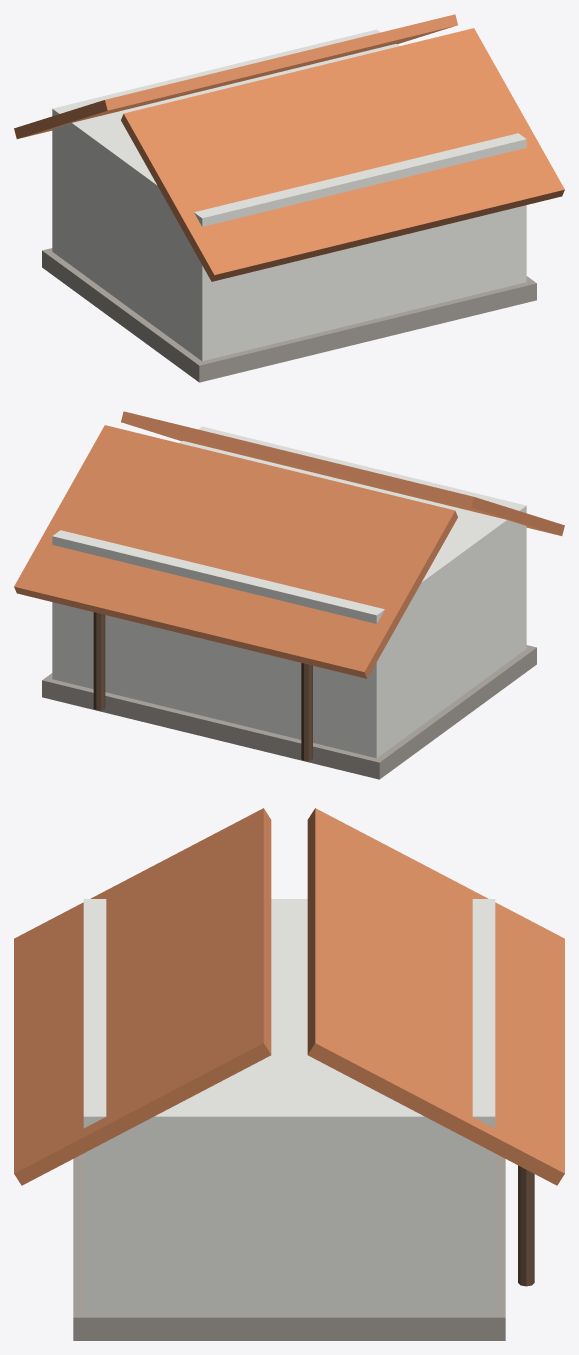
Rendered from Bldg_KeralaHouse_B_Distant.fbx.
3 views of the same model, one above another, from view 1: azimuth 30°, elevation 25°; view 2: azimuth 150°, elevation 25°; view 3: azimuth 270°, elevation 25° (orthographic). The views are drawn at different scales.
Parts seen in each view (by area): view 1: Bldg_KeralaHouse_B_Distant; view 2: Bldg_KeralaHouse_B_Distant; view 3: Bldg_KeralaHouse_B_Distant.
Part boxes in pixels (x1,y1,x2,y2): Bldg_KeralaHouse_B_Distant: (14,14,564,382); Bldg_KeralaHouse_B_Distant: (14,411,564,779); Bldg_KeralaHouse_B_Distant: (14,808,564,1340).
Size of the model in its own units: 5.4 by 3.24 by 5.35.
